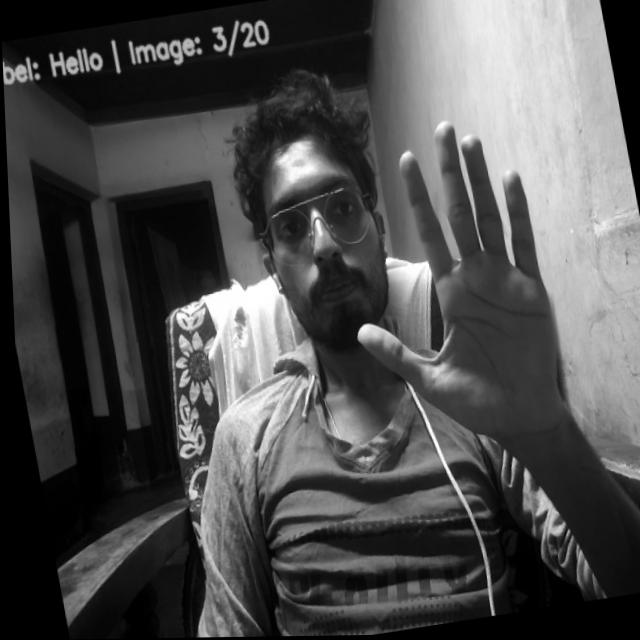Hello: (313, 108, 597, 450)
